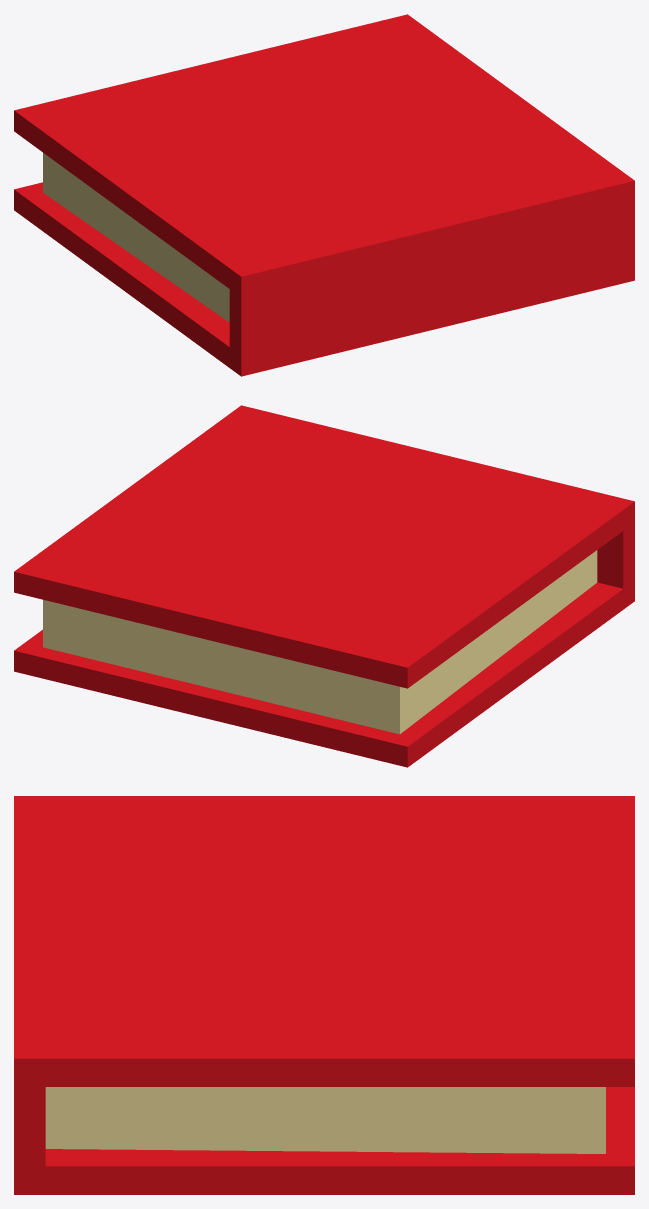
The model's file is book-red.fbx.
3 views of the same model, one above another, from view 1: azimuth 30°, elevation 25°; view 2: azimuth 150°, elevation 25°; view 3: azimuth 270°, elevation 25° (orthographic). The views are drawn at different scales.
Parts seen in each view (by area): view 1: Cube.002; view 2: Cube.002; view 3: Cube.002.
Part boxes in pixels (<box>): Cube.002: <box>14,14,634,376</box>; Cube.002: <box>14,405,634,767</box>; Cube.002: <box>14,796,634,1194</box>.
Size of the model in its own units: 200 by 48.48 by 200.
